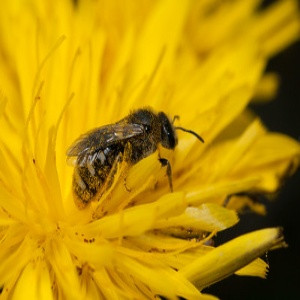bee: (65, 104, 206, 222)
